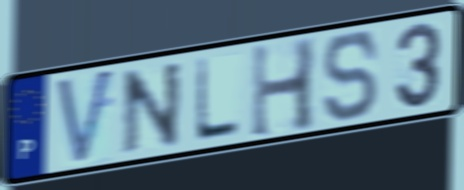3: (390, 20, 442, 111)
H: (249, 34, 319, 142)
L: (192, 55, 243, 144)
N: (119, 58, 185, 158)
S: (321, 29, 381, 125)
V: (53, 64, 118, 169)
